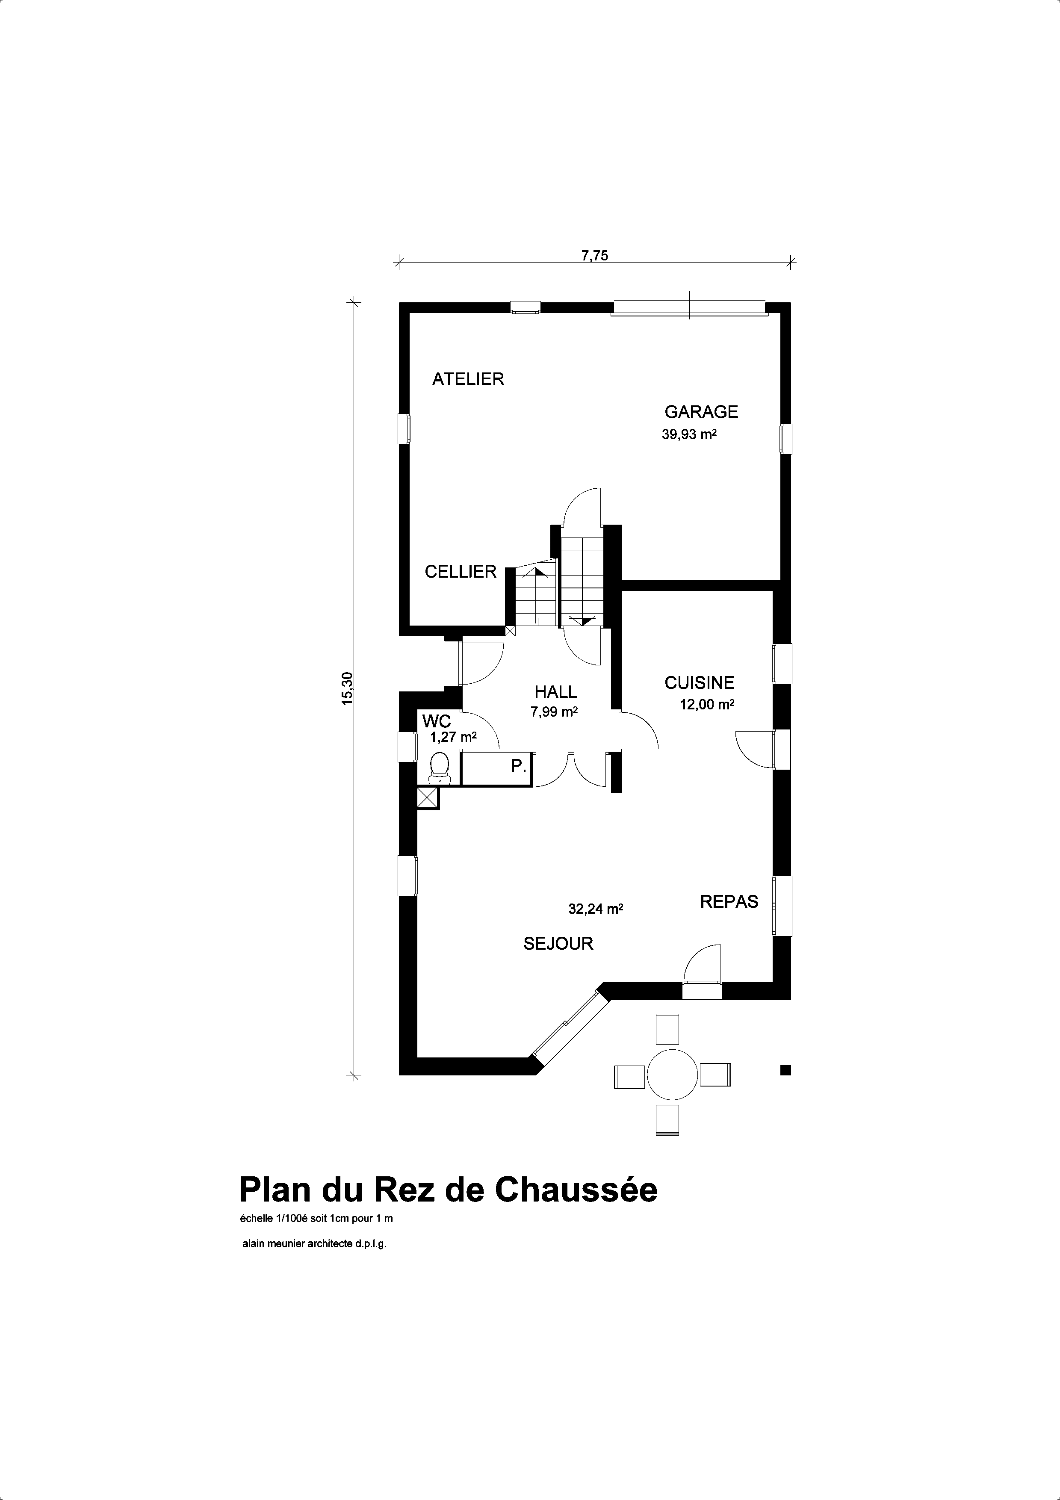door: (533, 752, 609, 788), (681, 944, 723, 1000), (735, 729, 792, 771), (458, 641, 504, 687), (560, 624, 603, 667), (459, 709, 501, 753), (560, 487, 603, 529), (619, 709, 658, 752)
sliding door: (531, 987, 610, 1068)
toilet: (428, 752, 451, 786)
window: (772, 875, 793, 937), (771, 643, 793, 683), (397, 856, 418, 897), (397, 731, 418, 763), (777, 423, 793, 456), (397, 413, 411, 444), (510, 300, 541, 314)
